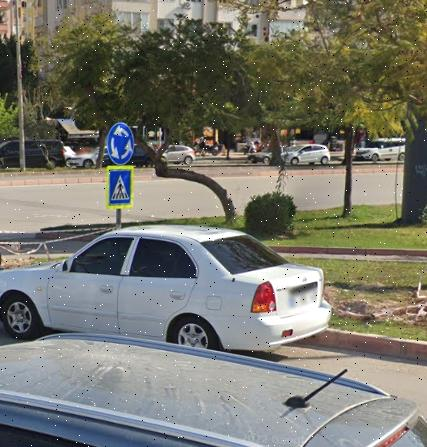crossroads: (106, 122, 136, 164)
